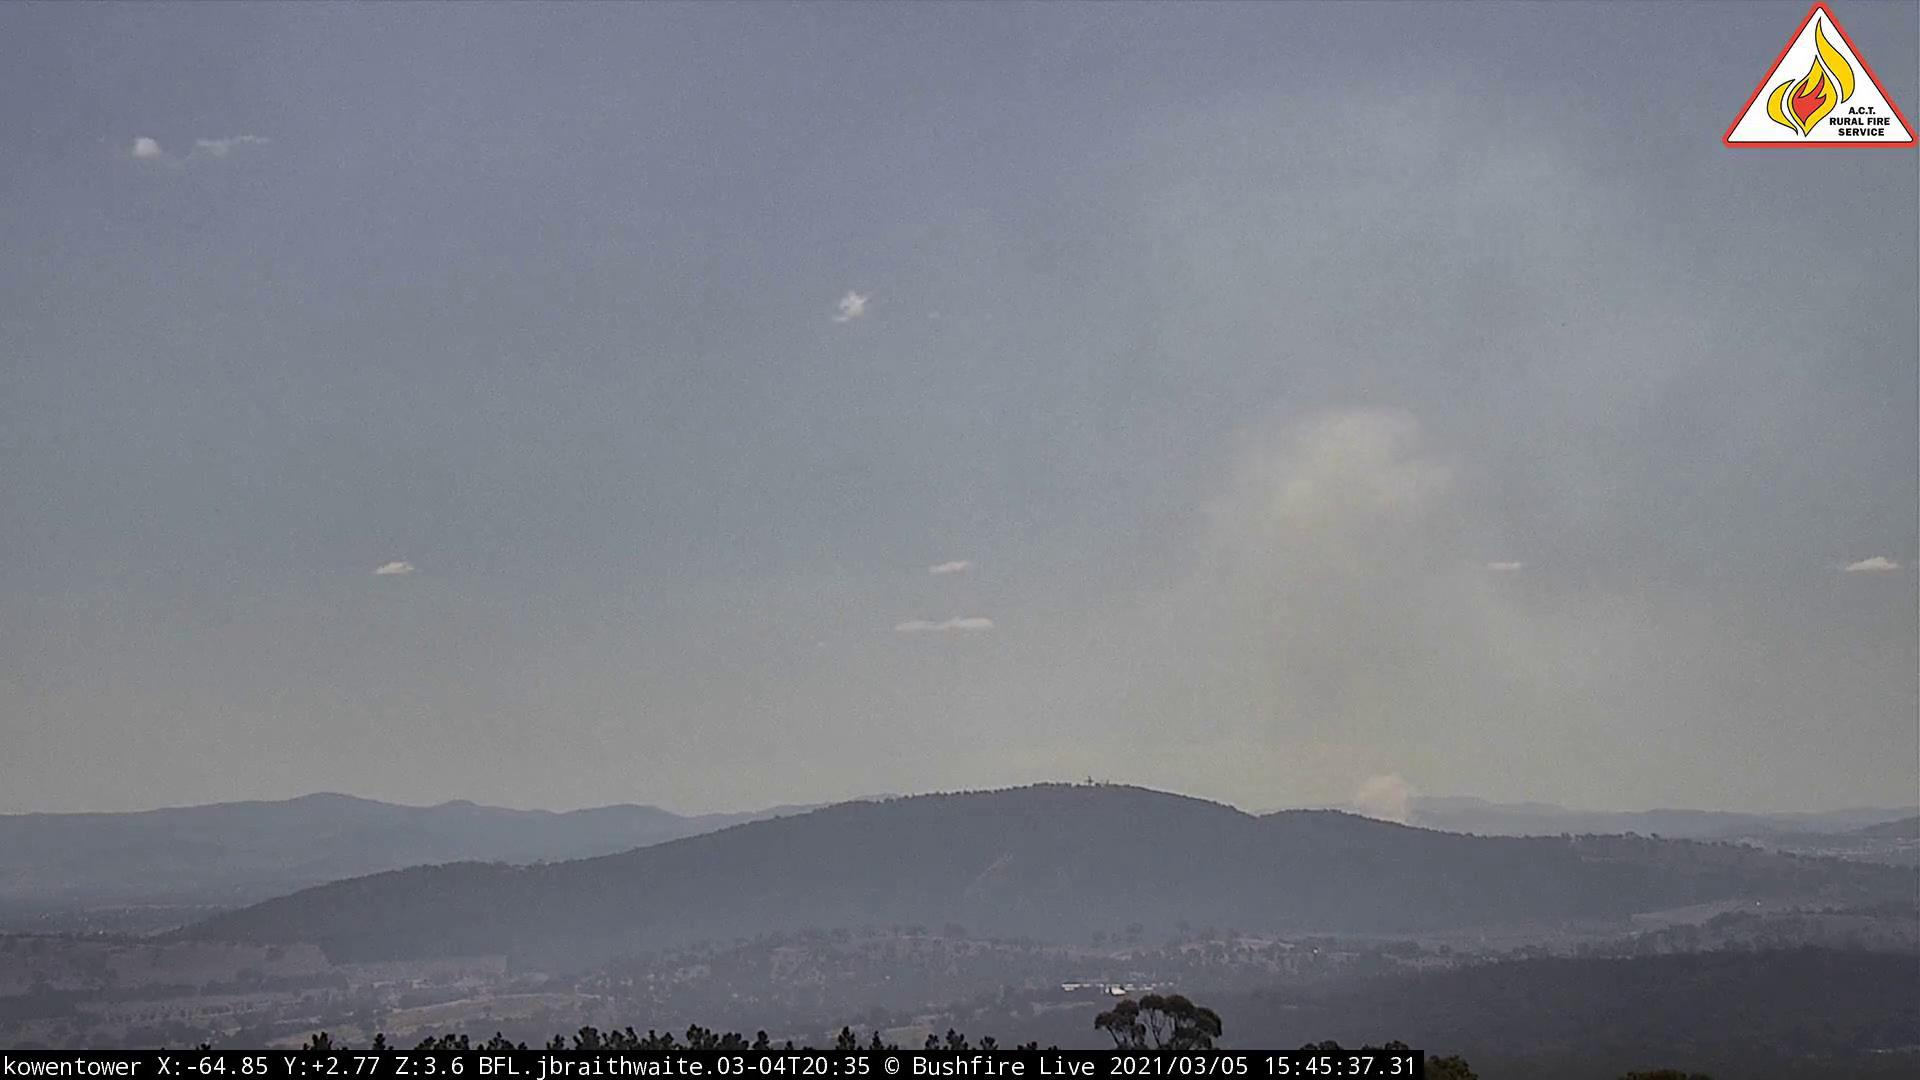Smoke: (1036, 156, 1809, 868)
